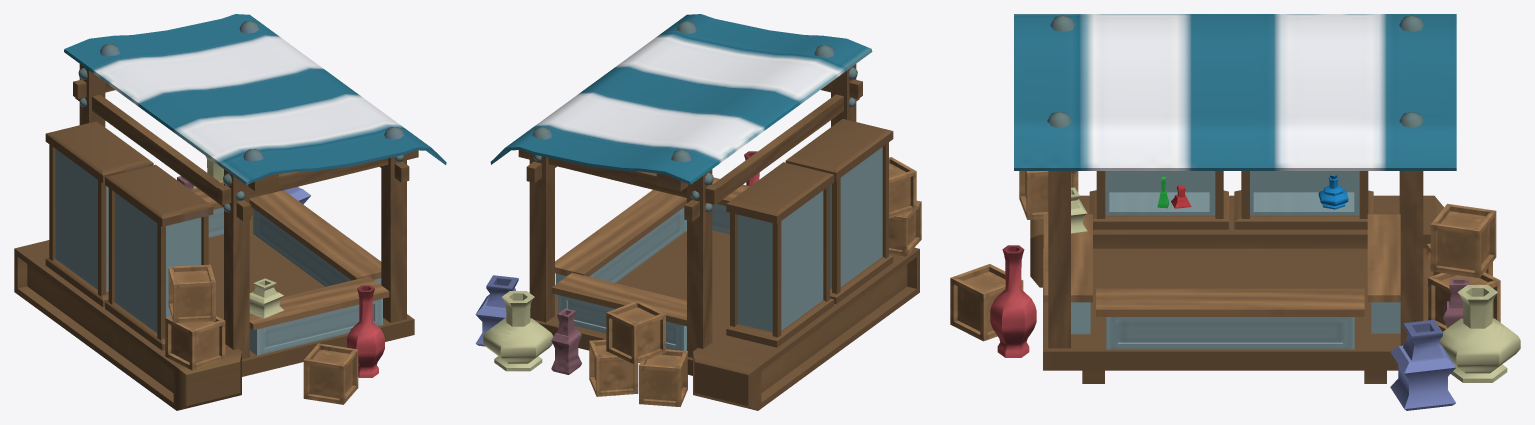
Rendered from mercado.glb.
3 views of the same model, side by side, from view 1: azimuth 30°, elevation 25°; view 2: azimuth 150°, elevation 25°; view 3: azimuth 270°, elevation 25° (orthographic). The views are drawn at different scales.
Visible parts, largest first — view 1: Mercado_0; view 2: Mercado_0; view 3: Mercado_0.
Part boxes in pixels (x1=…): Mercado_0: x1=14, y1=14, x2=446, y2=410; Mercado_0: x1=475, y1=14, x2=921, y2=410; Mercado_0: x1=950, y1=14, x2=1520, y2=410.
Bounding box in the file's own units: 2.57 × 2.02 × 3.67.
1 material, 1 textured.
